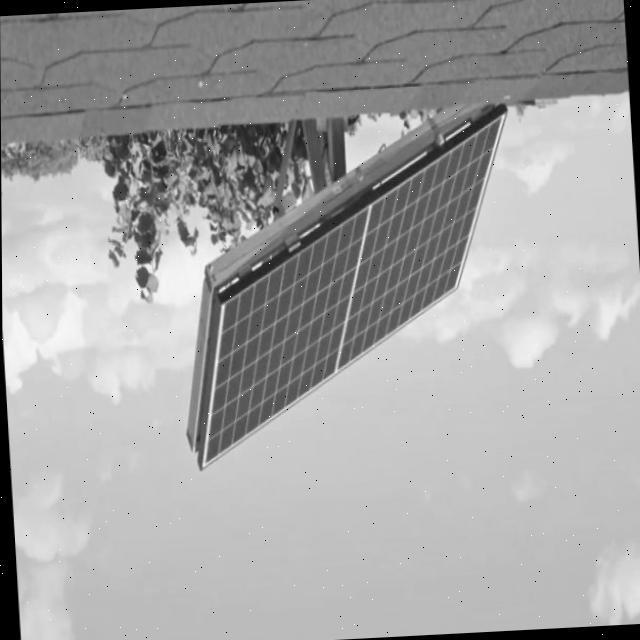Normal Solar Panel: (177, 107, 524, 466)
